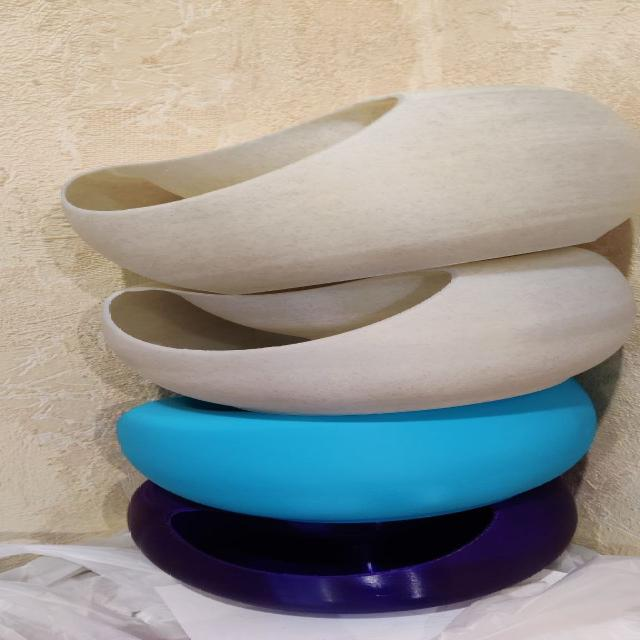Without deffect: (57, 73, 640, 614)
